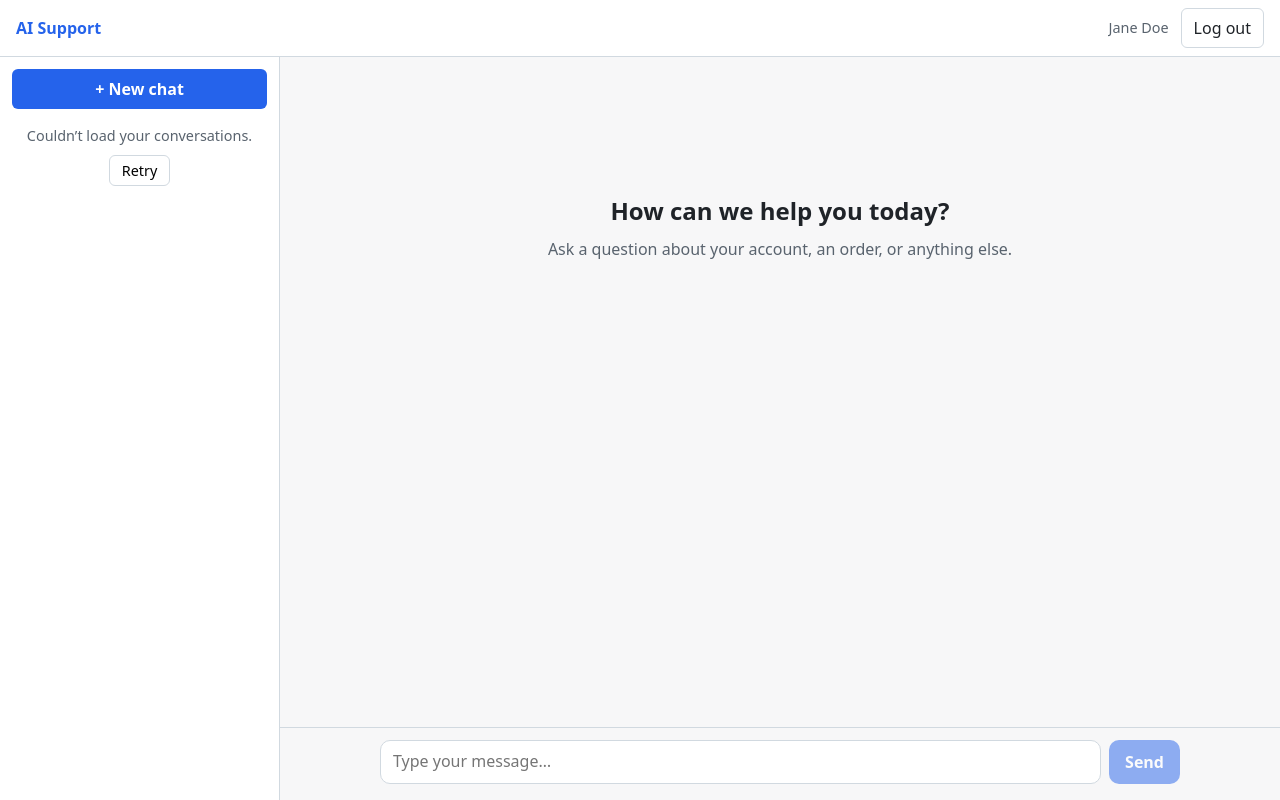
Test case: Conversation list (UI-04) › offers Retry when the list fails to load, and recovers
The image size is (1280, 800).
Check: the text "Couldn’t load your conversations." is shown, box [12,125,267,147]
Click the button "Retry" at (139, 170), box [109,155,170,186]
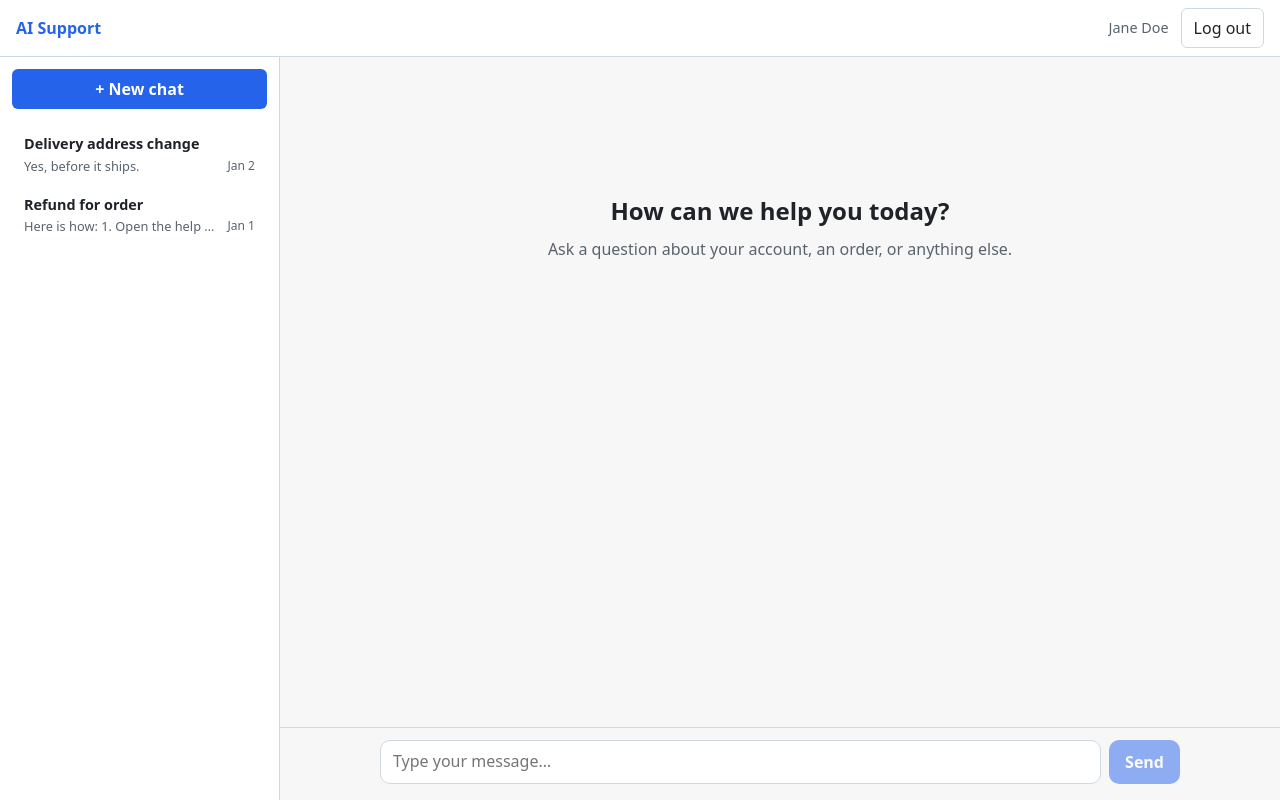
Check: the text "Refund for order" is shown, box [24,195,143,214]
